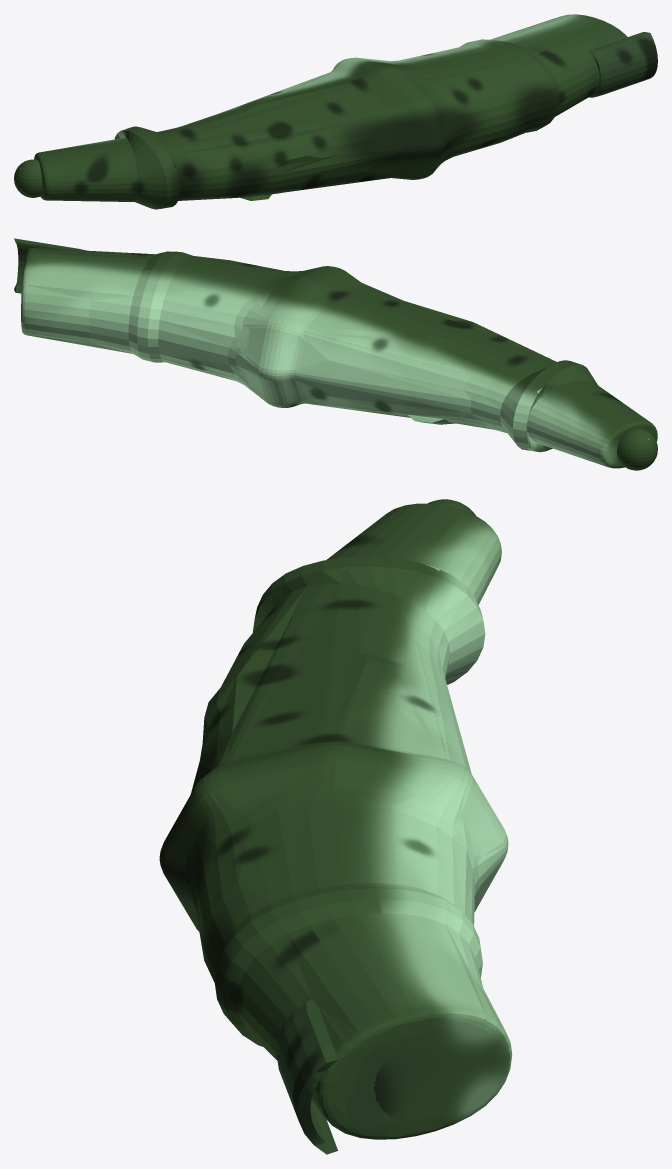
Rendered from arm.obj.
The picture shows the model from 3 angles, top to bottom: view 1: azimuth 30°, elevation 25°; view 2: azimuth 150°, elevation 25°; view 3: azimuth 270°, elevation 25°; orthographic projection. The views are drawn at different scales.
Parts seen in each view (by area): view 1: arm_Sphere; view 2: arm_Sphere; view 3: arm_Sphere.
Boxes of the visible parts, bbox=[...] form: arm_Sphere: bbox=[14, 14, 657, 209]; arm_Sphere: bbox=[14, 238, 657, 470]; arm_Sphere: bbox=[159, 499, 512, 1154].
Size of the model in its own units: 2.95 by 0.4699 by 0.7453.
1 material, 1 textured.
